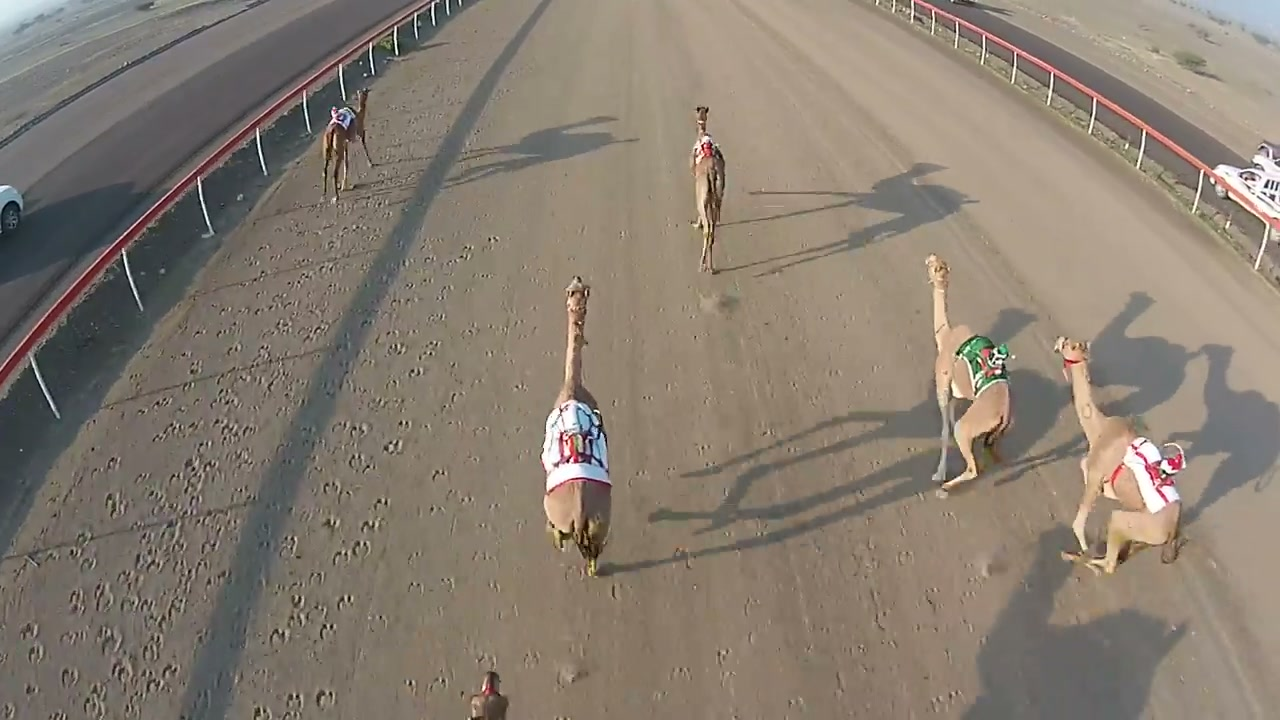animal_footprint: (9, 211, 342, 719), (266, 220, 508, 708)
